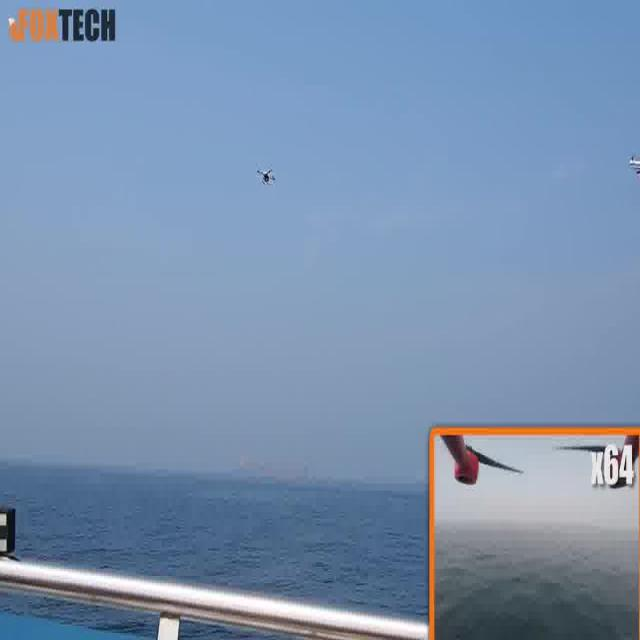drone: (255, 167, 278, 193)
